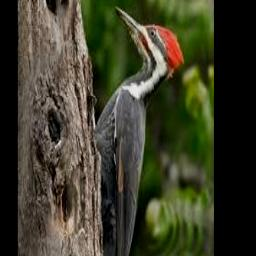Woodpecker: (94, 6, 184, 256)
